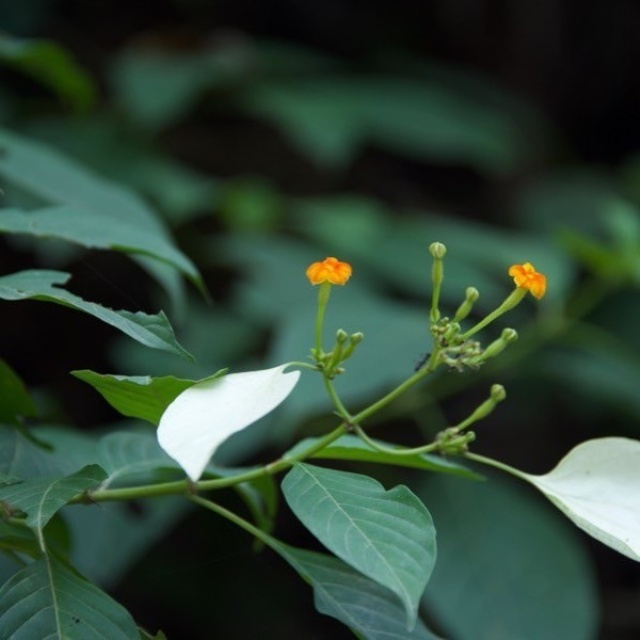obstacle: (61, 237, 627, 583)
